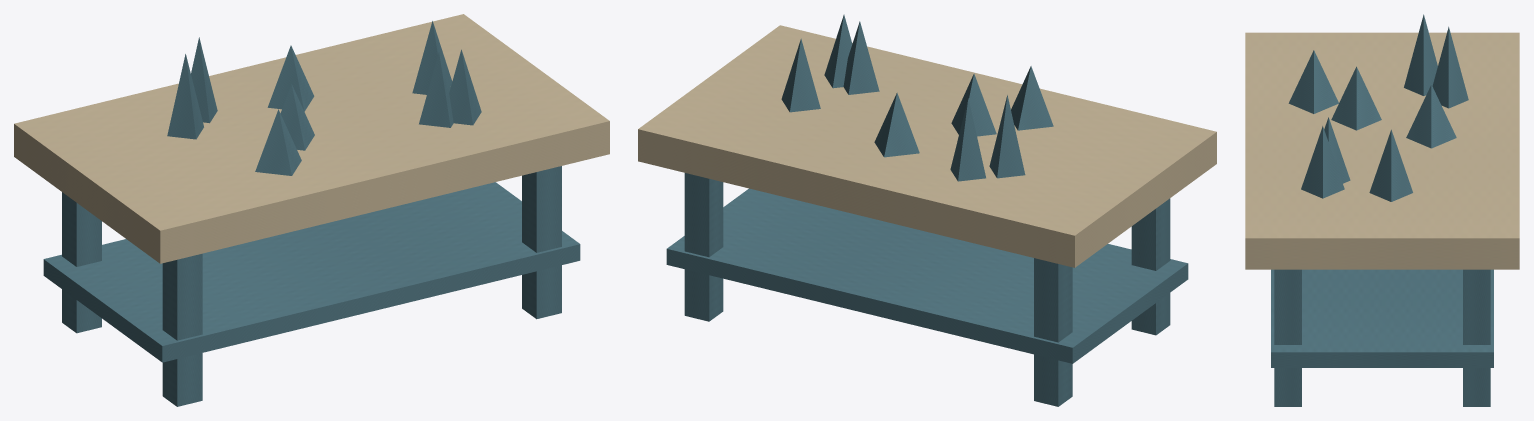
File: atlas100-s043-a01.lod2.glb
The picture shows the model from 3 angles, left to right: view 1: azimuth 30°, elevation 25°; view 2: azimuth 150°, elevation 25°; view 3: azimuth 270°, elevation 25°; orthographic projection. The views are drawn at different scales.
Parts seen in each view (by area): view 1: atlas100-s043-a01:part-004, atlas100-s043-a01:part-005, atlas100-s043-a01:part-001, atlas100-s043-a01:part-003, atlas100-s043-a01:part-000, atlas100-s043-a01:part-012, atlas100-s043-a01:part-007, atlas100-s043-a01:part-014, atlas100-s043-a01:part-011, atlas100-s043-a01:part-013, atlas100-s043-a01:part-010, atlas100-s043-a01:part-009 (+1 smaller); view 2: atlas100-s043-a01:part-004, atlas100-s043-a01:part-005, atlas100-s043-a01:part-002, atlas100-s043-a01:part-000, atlas100-s043-a01:part-001, atlas100-s043-a01:part-012, atlas100-s043-a01:part-009, atlas100-s043-a01:part-013, atlas100-s043-a01:part-007, atlas100-s043-a01:part-008, atlas100-s043-a01:part-014, atlas100-s043-a01:part-010 (+1 smaller); view 3: atlas100-s043-a01:part-004, atlas100-s043-a01:part-005, atlas100-s043-a01:part-002, atlas100-s043-a01:part-003, atlas100-s043-a01:part-010, atlas100-s043-a01:part-013, atlas100-s043-a01:part-007, atlas100-s043-a01:part-011, atlas100-s043-a01:part-008, atlas100-s043-a01:part-009, atlas100-s043-a01:part-012, atlas100-s043-a01:part-014.
Part boxes in pixels (x1,y1,x2,y2): atlas100-s043-a01:part-004: (14, 14, 609, 263); atlas100-s043-a01:part-005: (43, 182, 580, 362); atlas100-s043-a01:part-001: (162, 253, 202, 406); atlas100-s043-a01:part-003: (522, 166, 561, 319); atlas100-s043-a01:part-000: (62, 192, 101, 333); atlas100-s043-a01:part-012: (167, 54, 203, 139); atlas100-s043-a01:part-007: (255, 109, 301, 175); atlas100-s043-a01:part-014: (419, 52, 453, 127); atlas100-s043-a01:part-011: (449, 49, 481, 125); atlas100-s043-a01:part-013: (267, 45, 314, 111); atlas100-s043-a01:part-010: (280, 84, 314, 150); atlas100-s043-a01:part-009: (191, 37, 217, 123); atlas100-s043-a01:part-004: (638, 25, 1216, 267); atlas100-s043-a01:part-005: (666, 188, 1188, 363); atlas100-s043-a01:part-002: (684, 173, 723, 321); atlas100-s043-a01:part-000: (1034, 258, 1072, 406); atlas100-s043-a01:part-001: (1131, 198, 1170, 335); atlas100-s043-a01:part-012: (989, 95, 1025, 178); atlas100-s043-a01:part-009: (950, 98, 985, 181); atlas100-s043-a01:part-013: (874, 92, 919, 157); atlas100-s043-a01:part-007: (1011, 66, 1053, 130); atlas100-s043-a01:part-008: (781, 38, 820, 112); atlas100-s043-a01:part-014: (843, 21, 879, 94); atlas100-s043-a01:part-010: (951, 73, 996, 136); atlas100-s043-a01:part-004: (1245, 32, 1519, 269); atlas100-s043-a01:part-005: (1271, 269, 1493, 367); atlas100-s043-a01:part-002: (1463, 269, 1490, 406); atlas100-s043-a01:part-003: (1274, 269, 1301, 406); atlas100-s043-a01:part-010: (1331, 66, 1381, 130); atlas100-s043-a01:part-013: (1406, 84, 1456, 148); atlas100-s043-a01:part-007: (1288, 50, 1338, 113); atlas100-s043-a01:part-011: (1301, 126, 1344, 198); atlas100-s043-a01:part-008: (1369, 129, 1412, 201); atlas100-s043-a01:part-009: (1432, 26, 1468, 108); atlas100-s043-a01:part-012: (1404, 14, 1437, 95); atlas100-s043-a01:part-014: (1324, 117, 1350, 183).
Bounding box in the file's own units: 2.84 × 1.65 × 1.6.
Materials: 2 (2 with a texture image).
